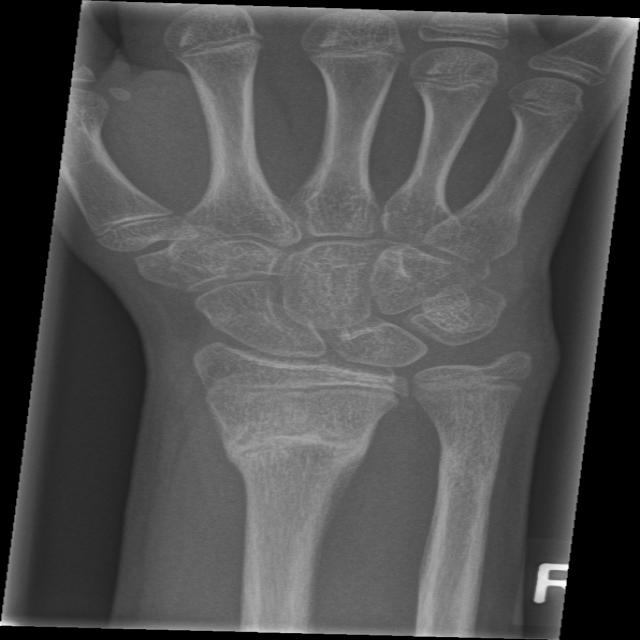radius fracture: (206, 407, 402, 559)
